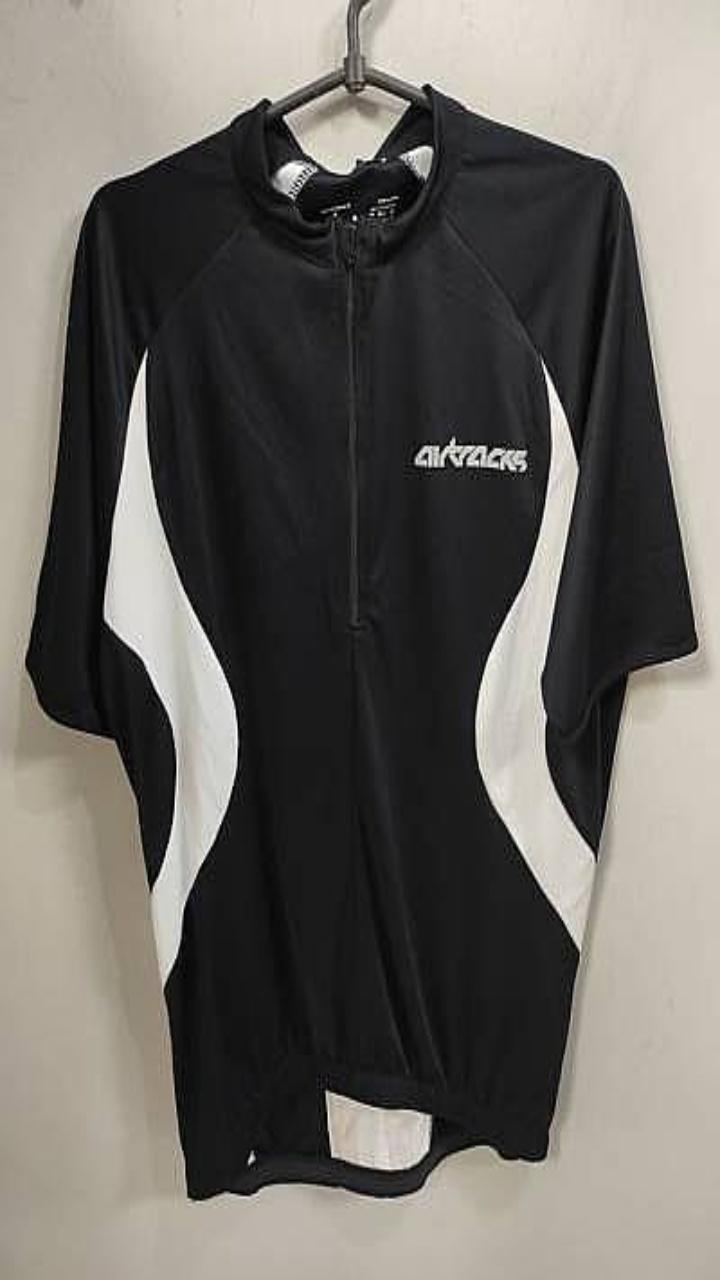Sports_Jacket: (25, 83, 697, 1197)
